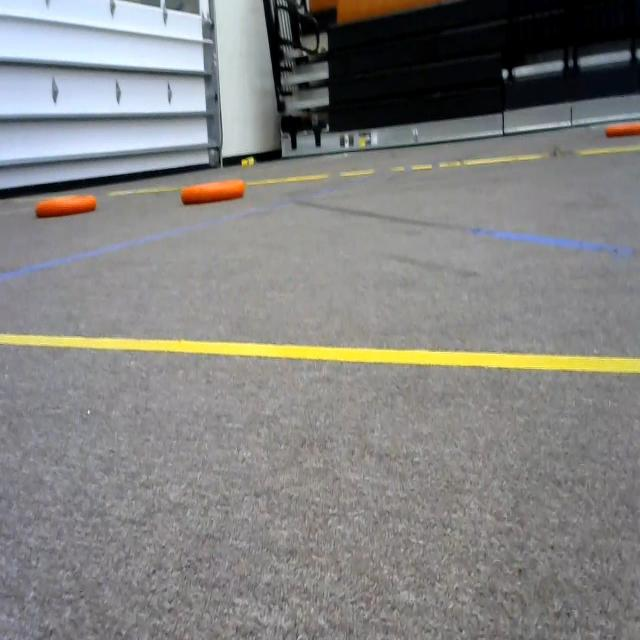note: (178, 173, 249, 216), (34, 190, 97, 225), (603, 116, 640, 138)
